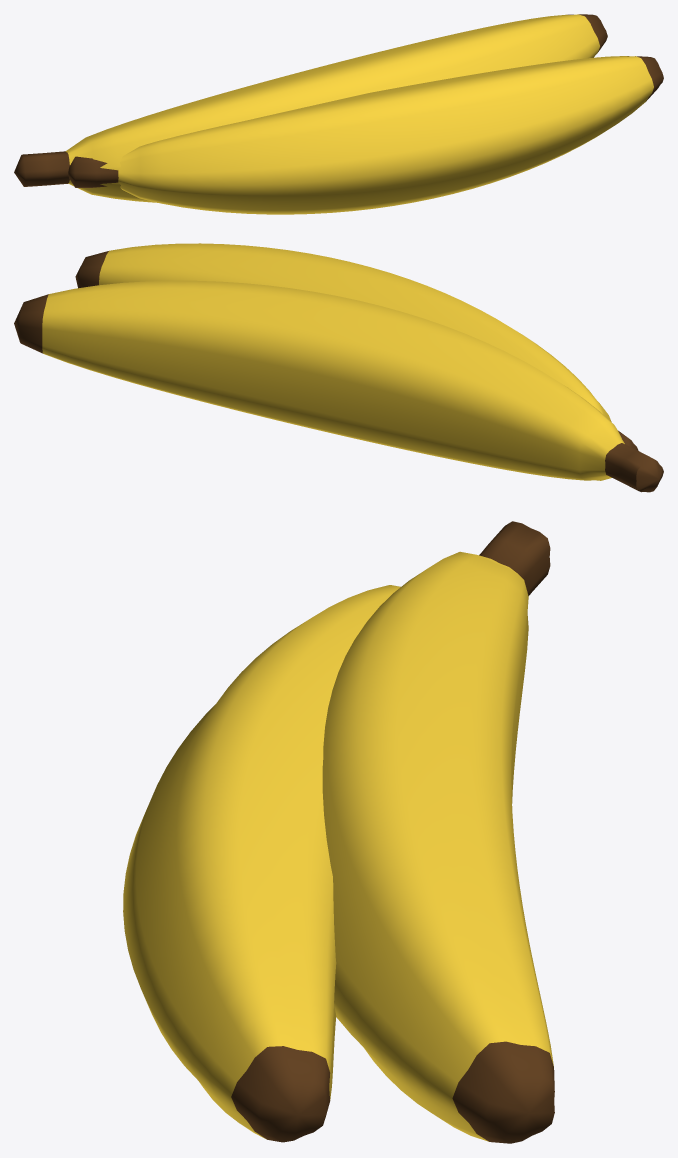
File: Bananas.fbx
The picture shows the model from 3 angles, top to bottom: view 1: azimuth 30°, elevation 25°; view 2: azimuth 150°, elevation 25°; view 3: azimuth 270°, elevation 25°; orthographic projection. The views are drawn at different scales.
Visible parts, largest first — view 1: Bananas; view 2: Bananas; view 3: Bananas.
Part boxes in pixels (box(x1,y1,x2,y2)): Bananas: box(14, 14, 663, 214); Bananas: box(14, 243, 663, 492); Bananas: box(123, 521, 554, 1143).
Bounding box in the file's own units: 0.1911 × 0.0346 × 0.0609.
